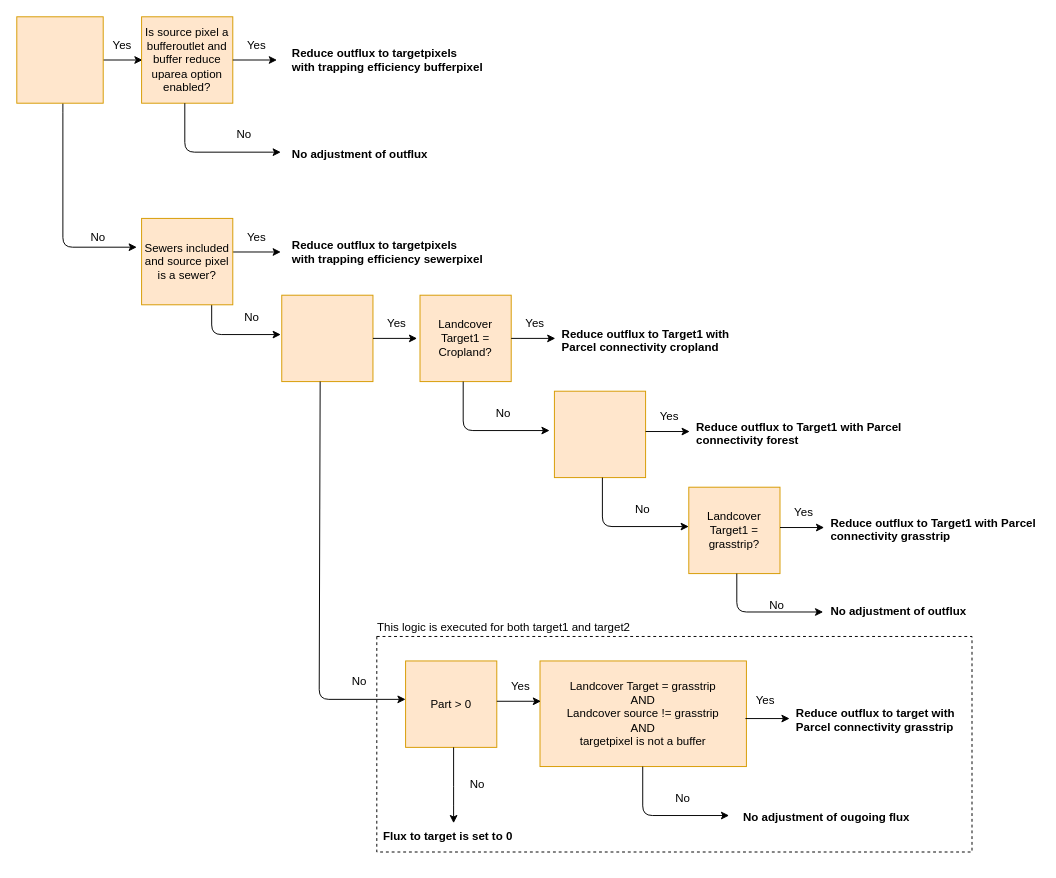
This 1056x878 diagram has some shape labels left out. The centre of each missing label's shape, as x and y in pixels:
Buffers included and source pixel is a buffer?: the point at 59,59
Landcover Target1 = forest or pasture?: the point at 599,434
One Target pixel and landcover target1 different from source?: the point at 327,338
